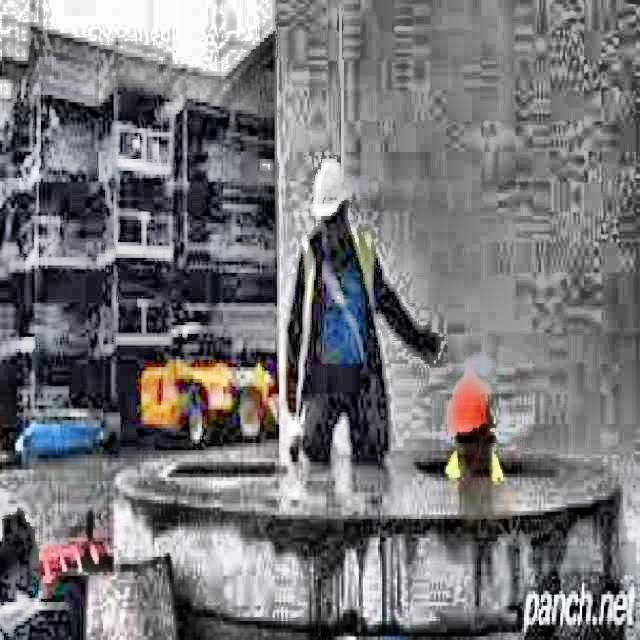bull_dozer/loader/grader: (138, 321, 281, 448)
person: (281, 158, 441, 468), (447, 378, 505, 478)
